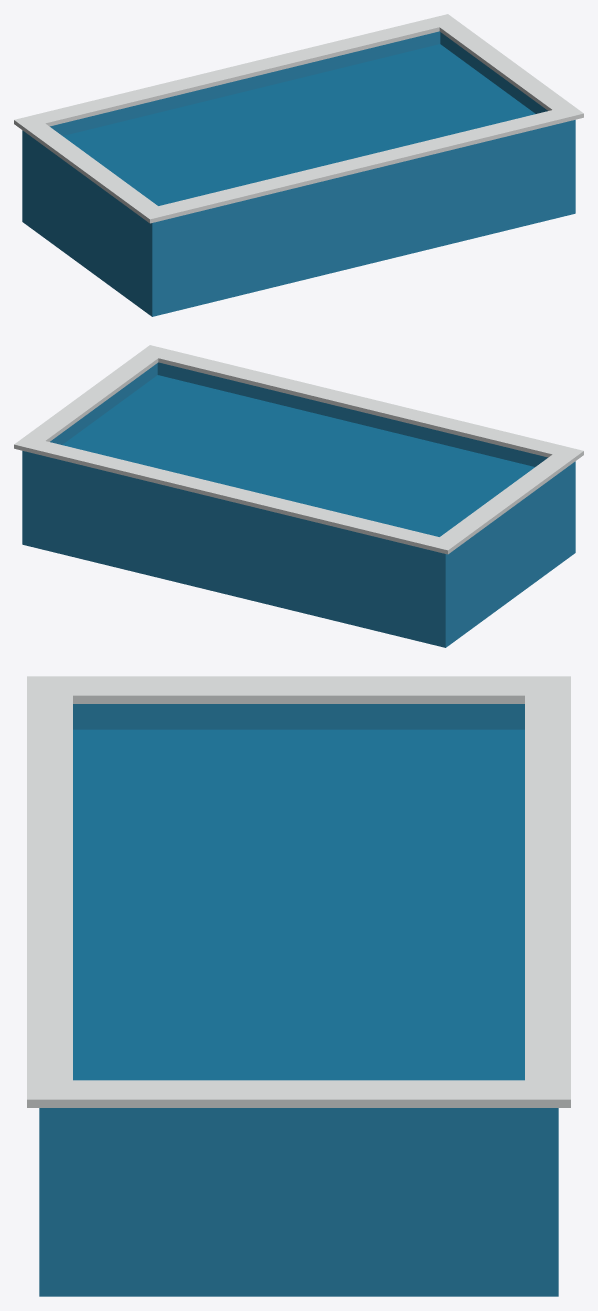
The model's file is Medence_6x3.obj.
3 views of the same model, one above another, from view 1: azimuth 30°, elevation 25°; view 2: azimuth 150°, elevation 25°; view 3: azimuth 270°, elevation 25° (orthographic). The views are drawn at different scales.
Bounding box in the file's own units: 6.56 × 1.46 × 3.56.
